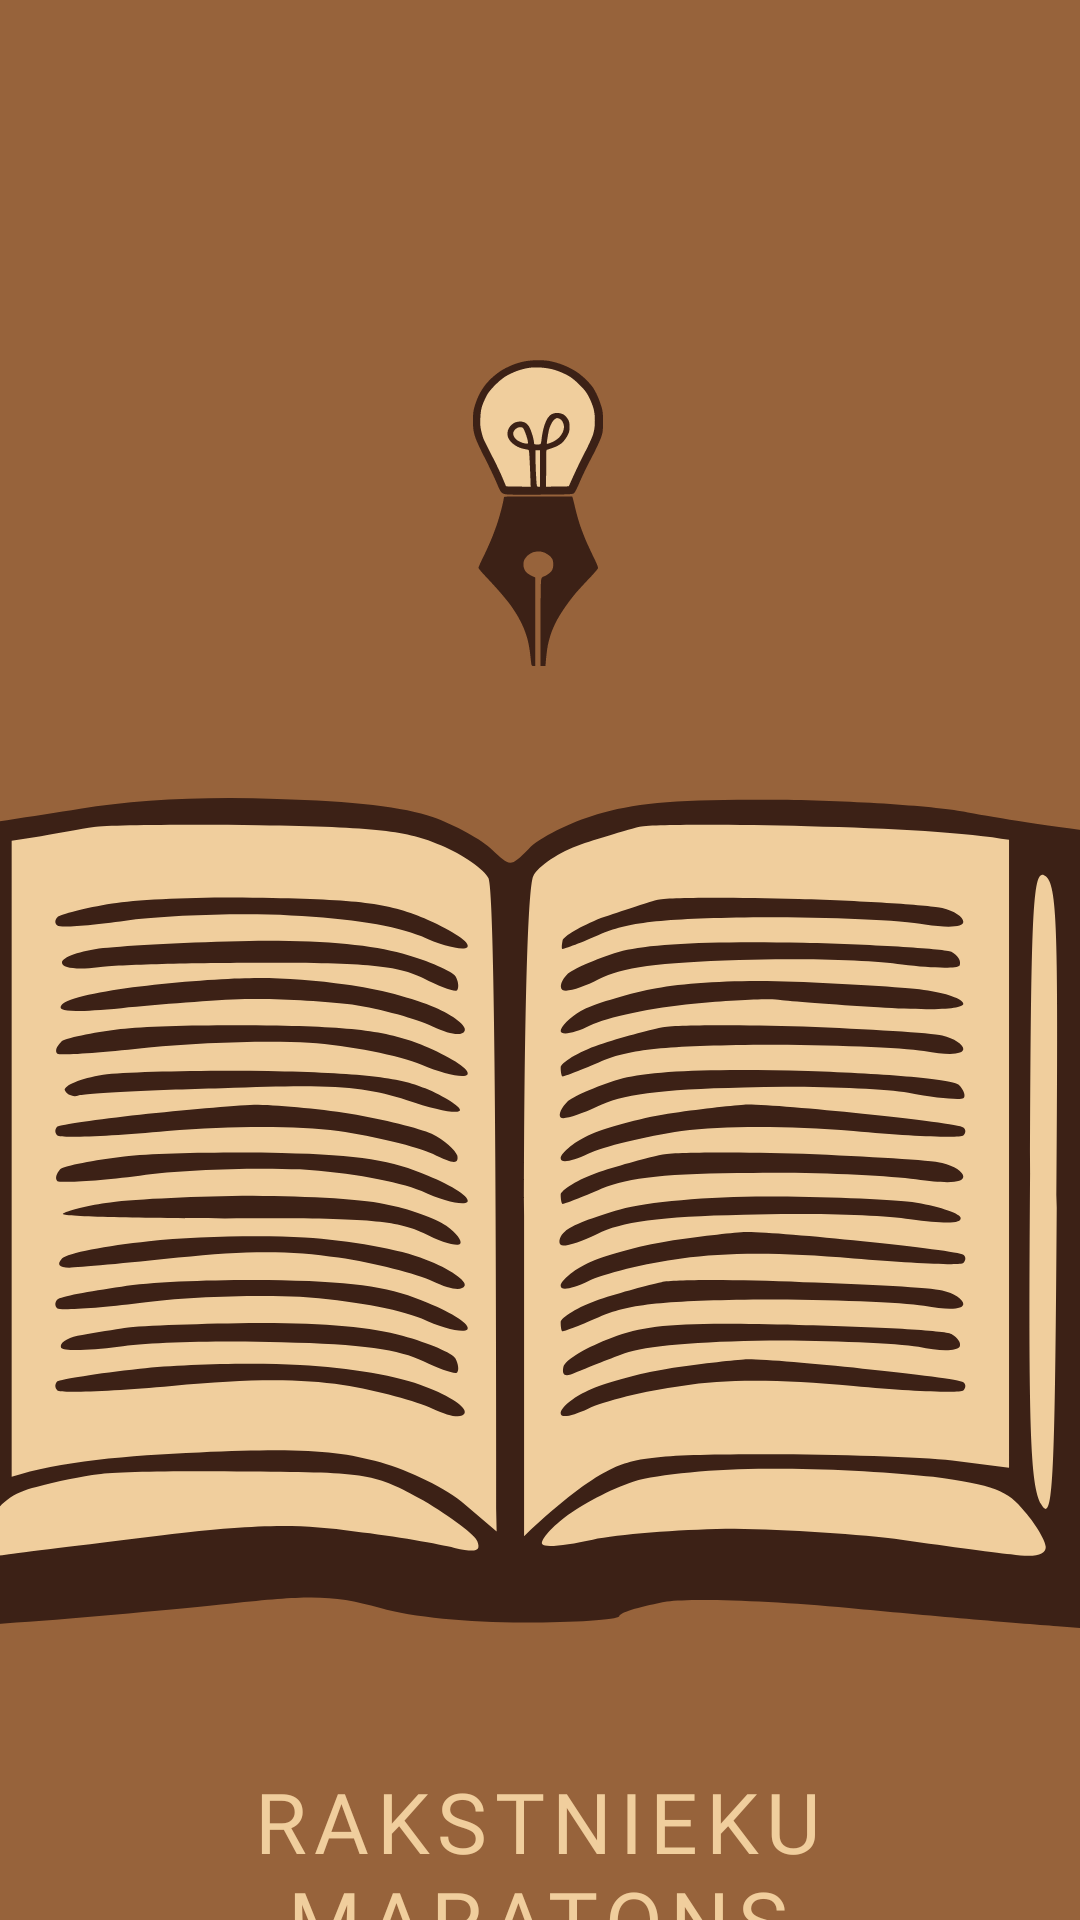

Screen size 1080 × 1920. Icon name, then its box in pixels as (x1, y1, x2, y2):
lamp: (473, 360, 603, 666)
